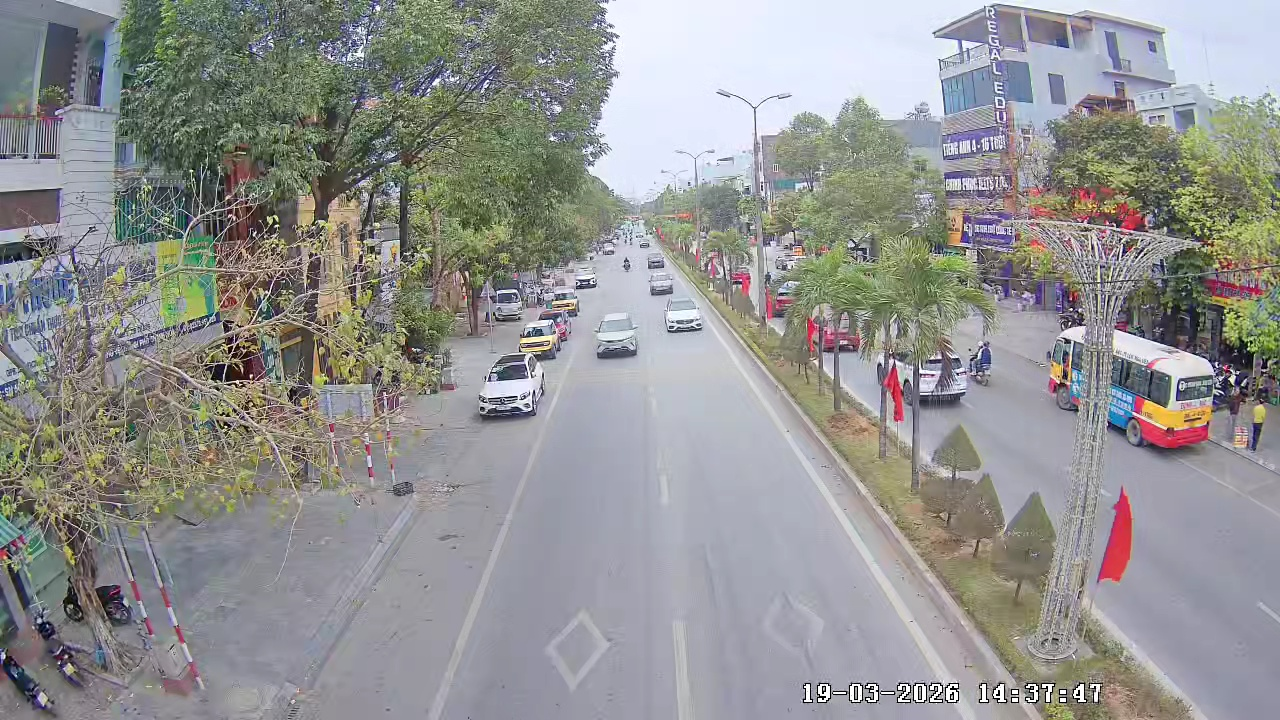bus: (1108, 349, 1215, 451)
car: (475, 353, 546, 419), (592, 310, 642, 360), (918, 355, 968, 405), (518, 315, 564, 361), (663, 295, 705, 335), (486, 282, 526, 323), (550, 285, 580, 319), (647, 265, 674, 295)
motorbike: (1055, 355, 1084, 413), (970, 340, 995, 386)
pedestrian: (1248, 402, 1267, 452)
